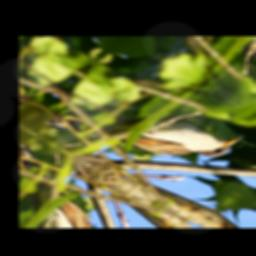Cuckoo: (38, 61, 247, 202)
